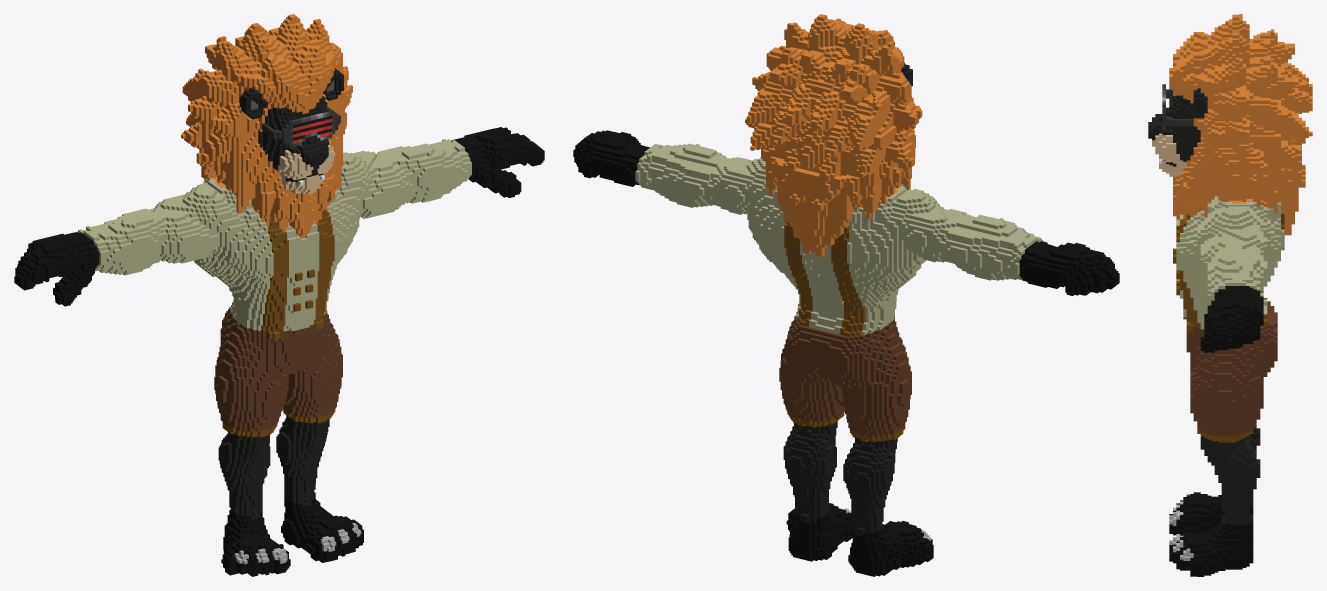
File: 464-gHbPYois.glb
The picture shows the model from 3 angles, left to right: view 1: azimuth 30°, elevation 25°; view 2: azimuth 150°, elevation 25°; view 3: azimuth 270°, elevation 25°; orthographic projection. The views are drawn at different scales.
Visible parts, largest first — view 1: standard.001; view 2: standard.001; view 3: standard.001.
Boxes of the visible parts, bbox=[...] form: standard.001: bbox=[14, 14, 544, 576]; standard.001: bbox=[573, 14, 1119, 576]; standard.001: bbox=[1148, 14, 1312, 576].
Size of the model in its own units: 17.2 by 16.5 by 4.7.
5 materials, 5 textured.
